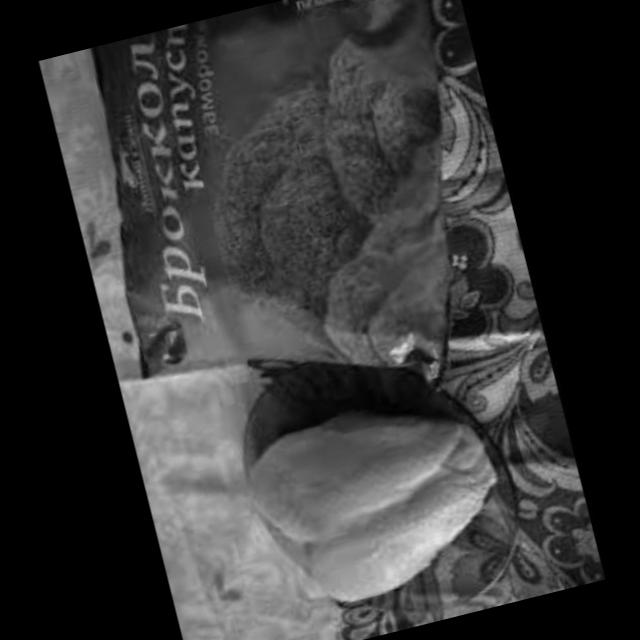broccoli: (186, 57, 468, 315)
